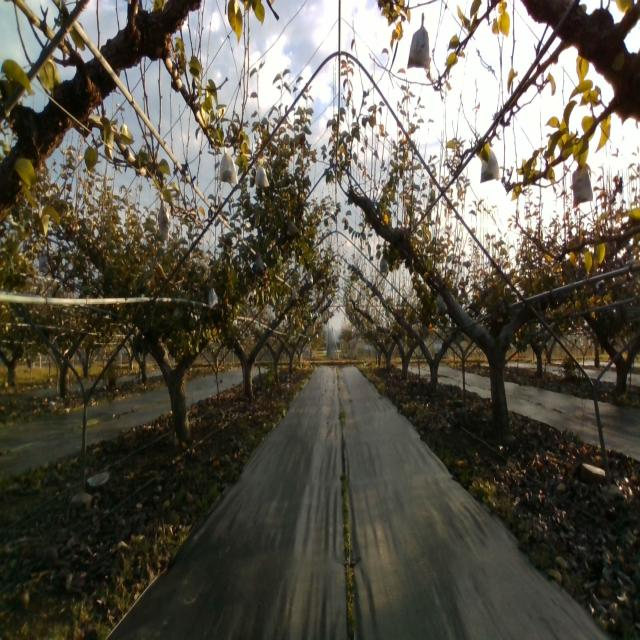pearbags: (407, 12, 431, 71), (572, 164, 593, 208), (219, 146, 239, 185), (158, 193, 172, 243), (480, 148, 499, 184), (255, 165, 273, 195), (436, 292, 449, 314), (209, 287, 219, 310)
